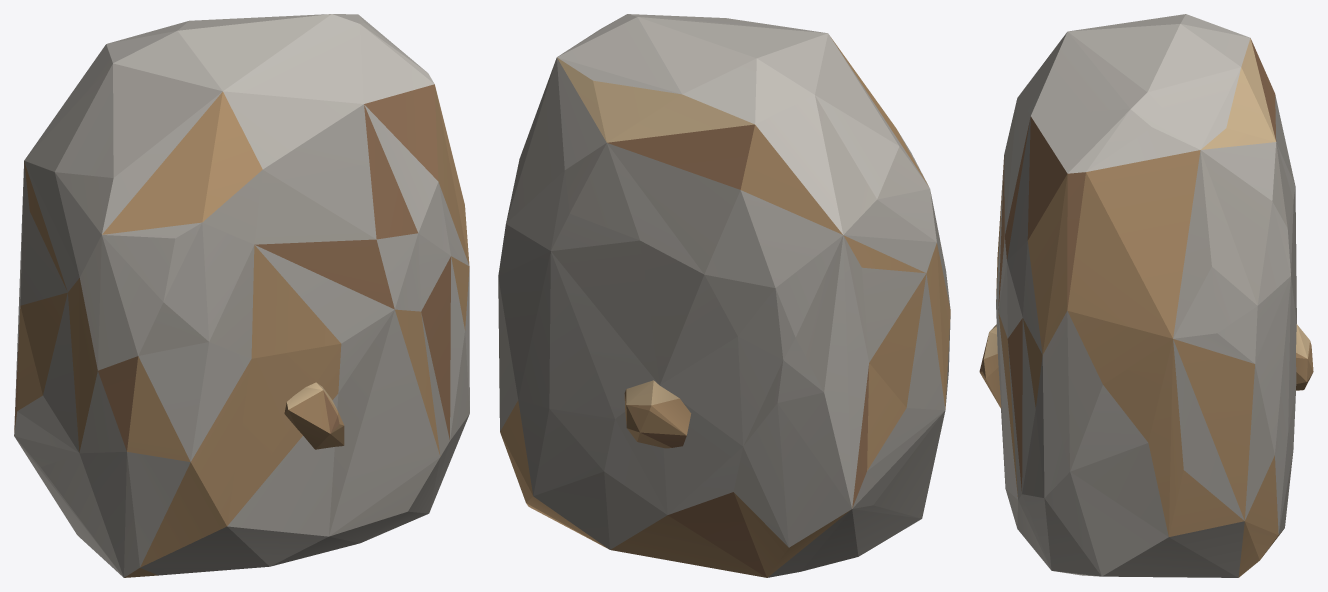
File: quarry_rock_b.glb
3 renders of one model, left to right at view 1: azimuth 30°, elevation 25°; view 2: azimuth 150°, elevation 25°; view 3: azimuth 270°, elevation 25°, orthographic. The views are drawn at different scales.
Size of the model in its own units: 1.3 by 1.54 by 1.01.
